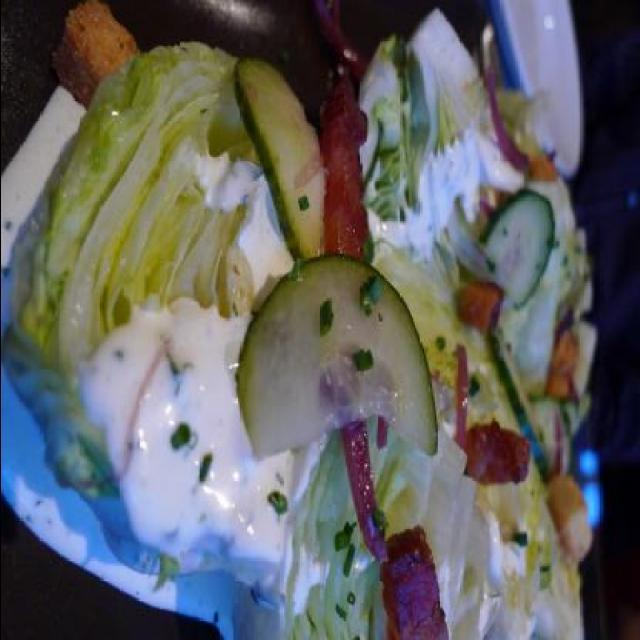Cucumber: (237, 256, 429, 507), (232, 54, 330, 263), (478, 188, 554, 310), (492, 326, 548, 470), (530, 399, 574, 472)
